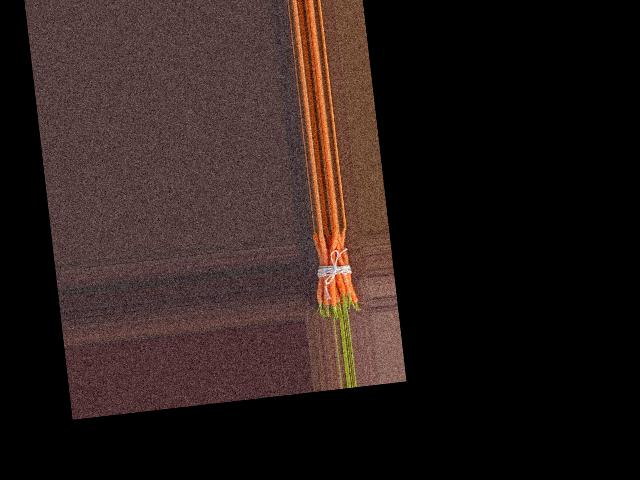carrot: (307, 231, 326, 311)
